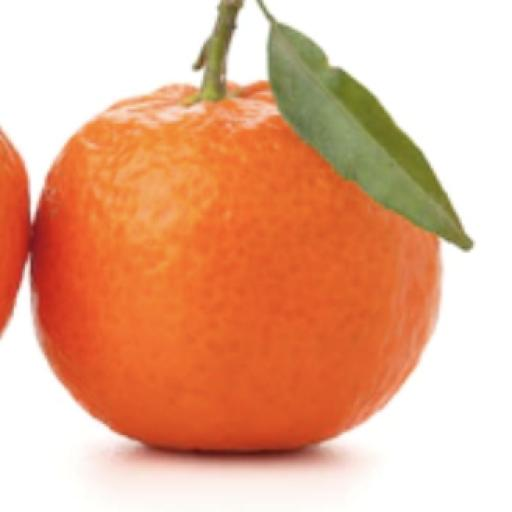orange: (32, 84, 440, 450), (0, 131, 29, 334)
